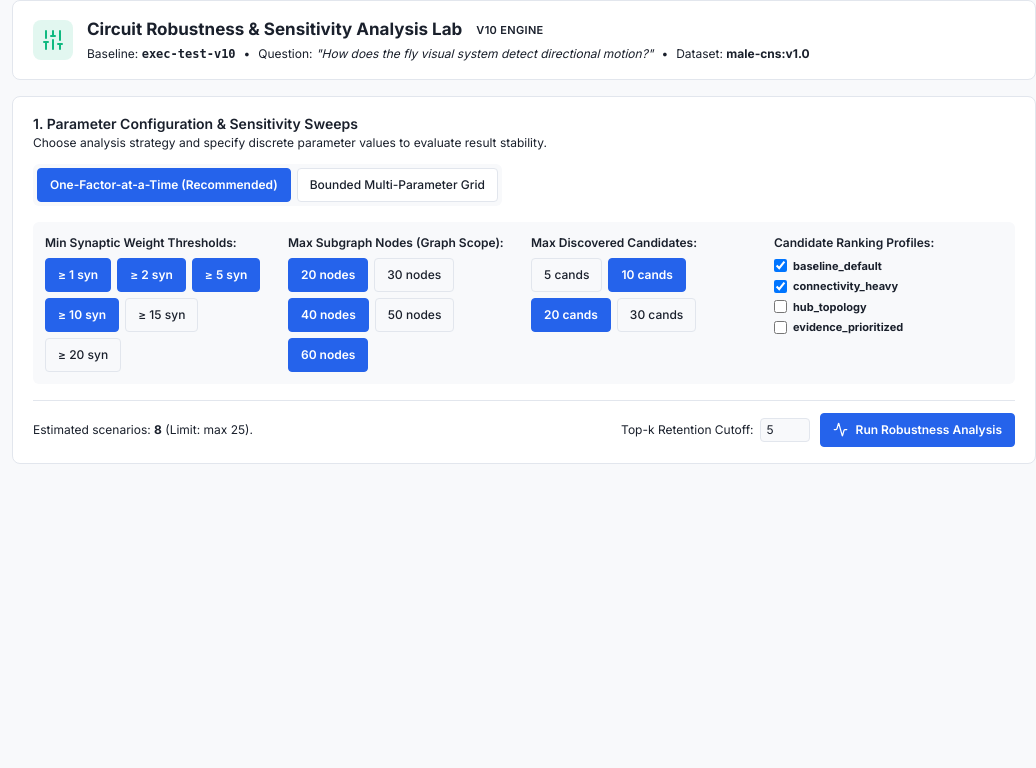
Test: RobustnessLab (V10) Component › renders candidate stability table with inclusion fractions and ranks
Click the button "Run Robustness Analysis": [917, 430] box x1=820 y1=412 x2=1015 y2=446
(page scrolled)
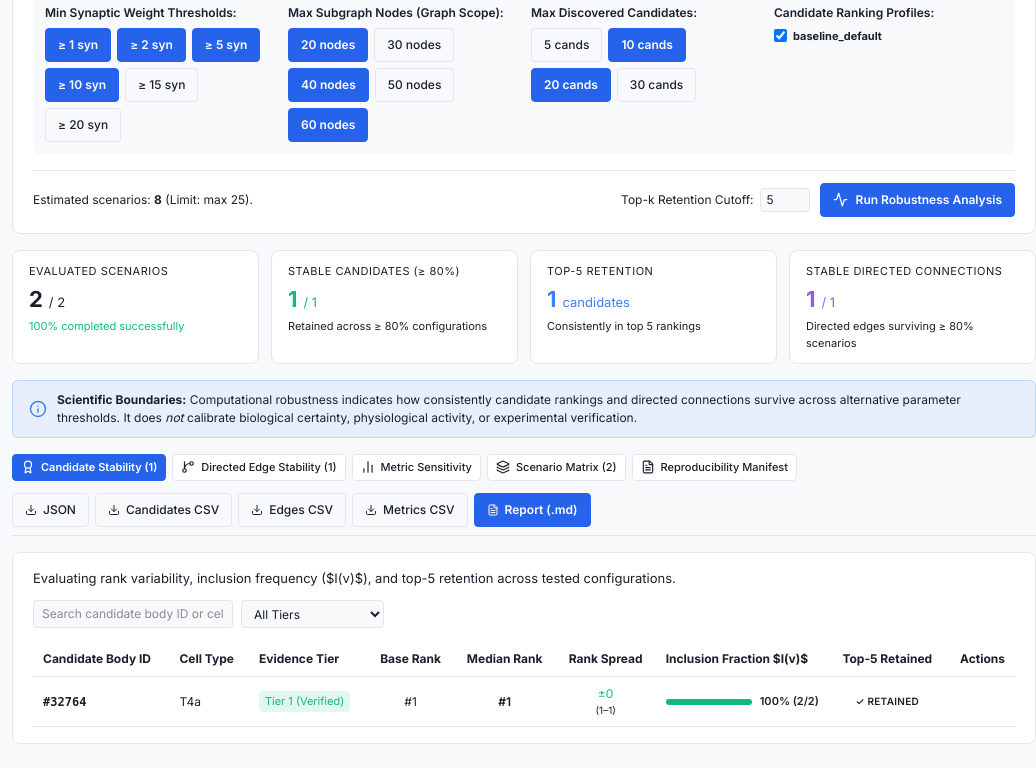
Expected: the text "#32764" is shown, x1=33 y1=676 x2=170 y2=726
Expected: the text "T4a" is shown, x1=170 y1=676 x2=249 y2=726
Expected: the text "100% (2/2)" is shown, x1=760 y1=693 x2=819 y2=710
